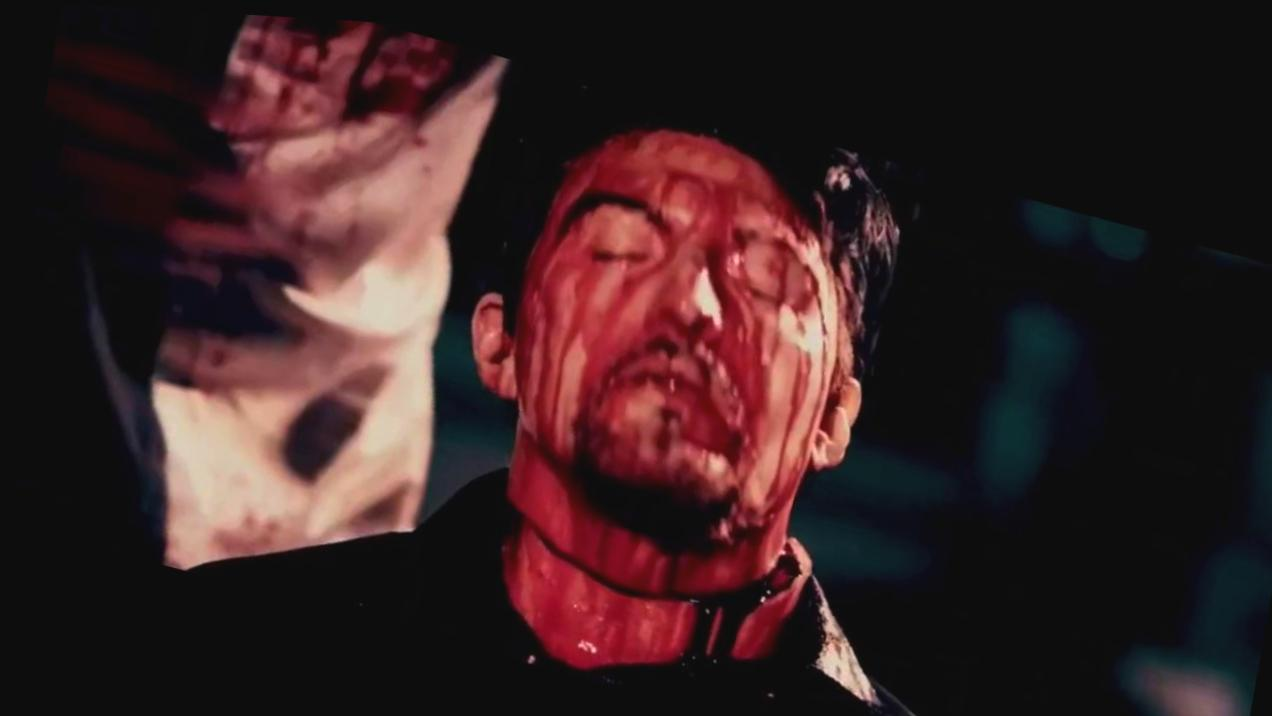Fire: (470, 123, 879, 693), (157, 11, 465, 281), (203, 508, 297, 558)
